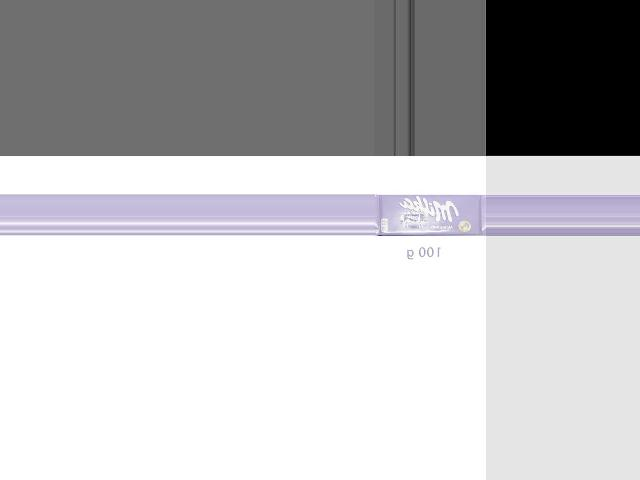chocolate: (373, 193, 482, 243)
